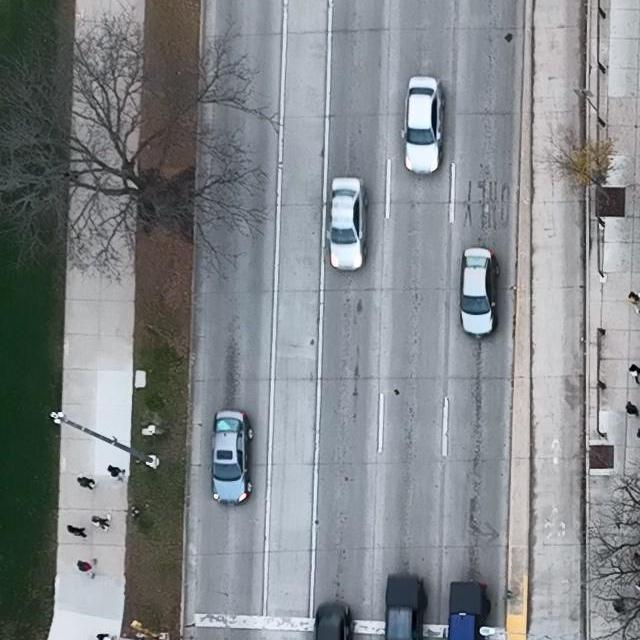car: (400, 76, 444, 174), (209, 409, 253, 505), (326, 177, 368, 271), (457, 246, 499, 339), (382, 573, 427, 640), (445, 584, 490, 640), (315, 601, 354, 640)
